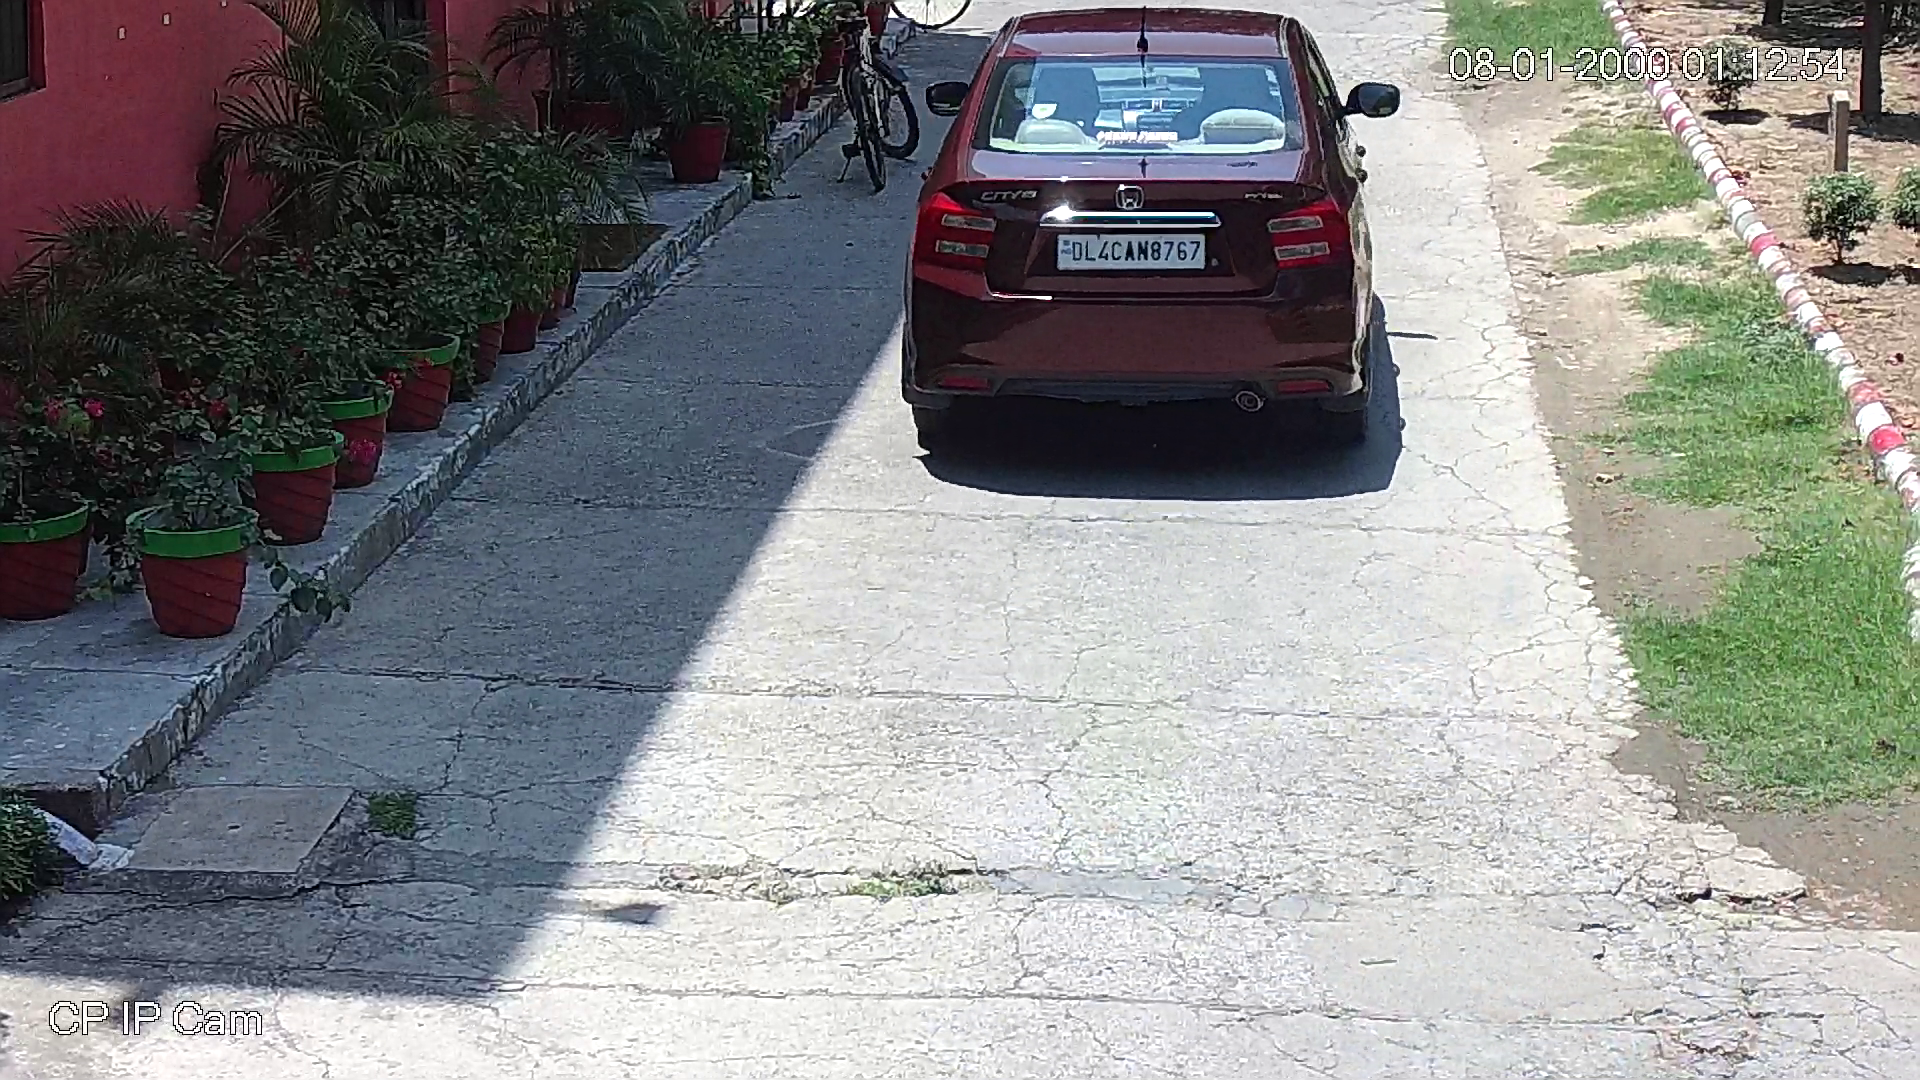plate: (1050, 226, 1209, 277)
